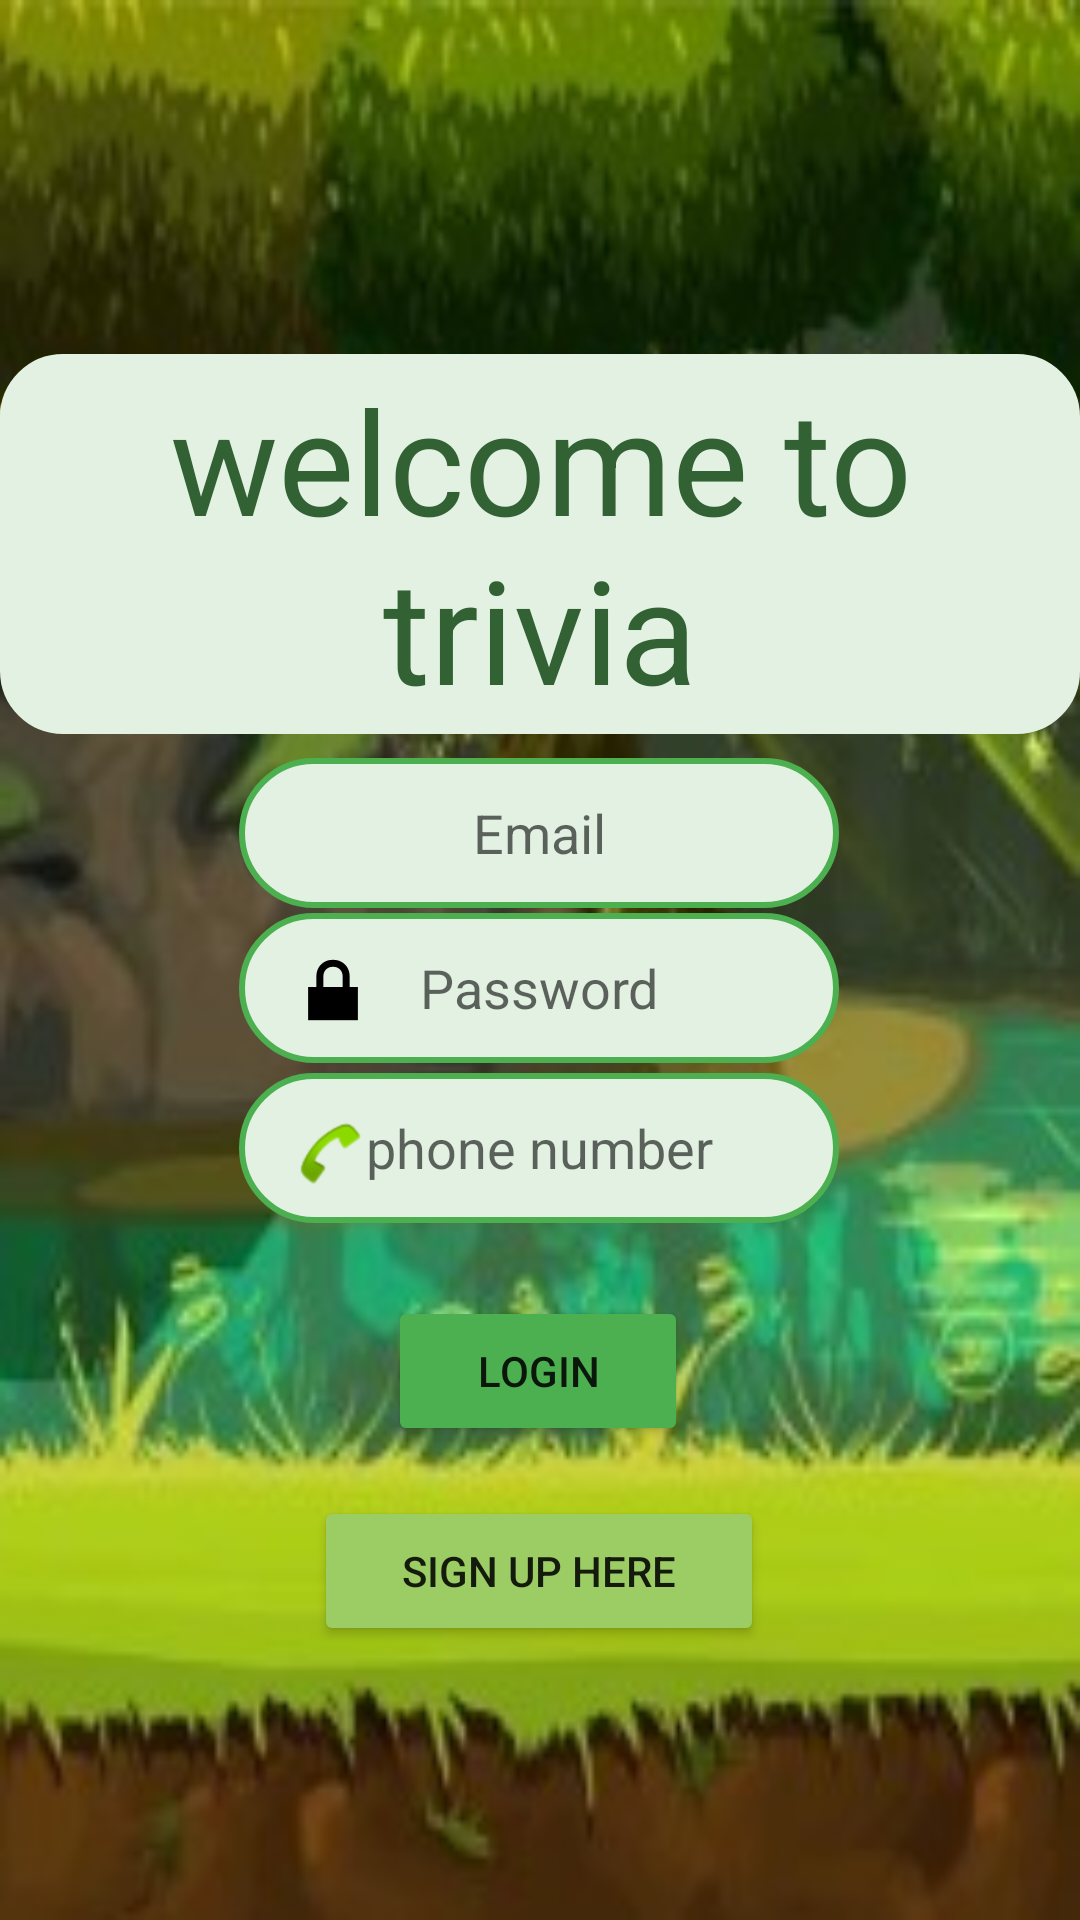

Where icons sit on this 1080w x 1920h app screen, as (x1,y1,x2,y2):
lock: (308,959,358,1021)
sym action call: (300,1123,361,1184)
